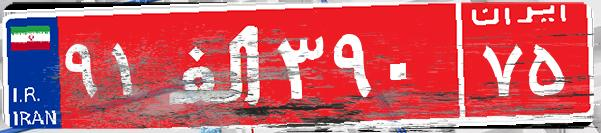0: (385, 28, 445, 110)
1: (110, 28, 158, 105)
3: (273, 28, 330, 110)
5: (525, 38, 570, 115)
7: (475, 38, 525, 113)
9: (330, 28, 385, 110), (57, 26, 110, 107)
الف: (158, 15, 273, 115)
